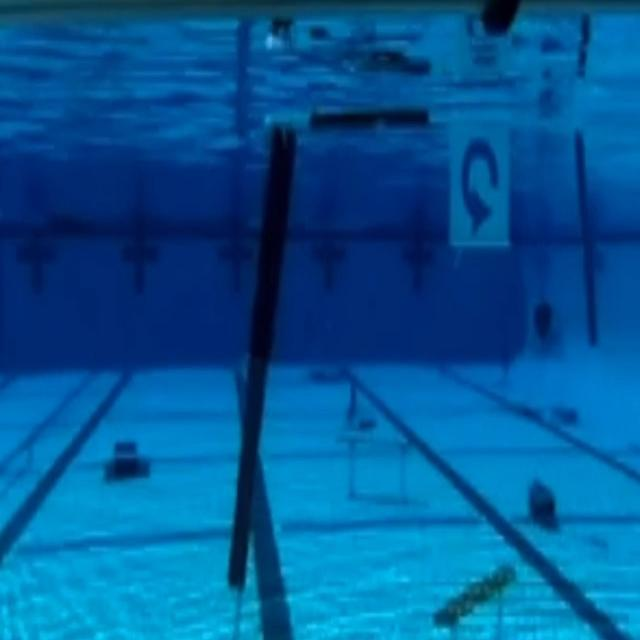Gate: (231, 89, 632, 640)
